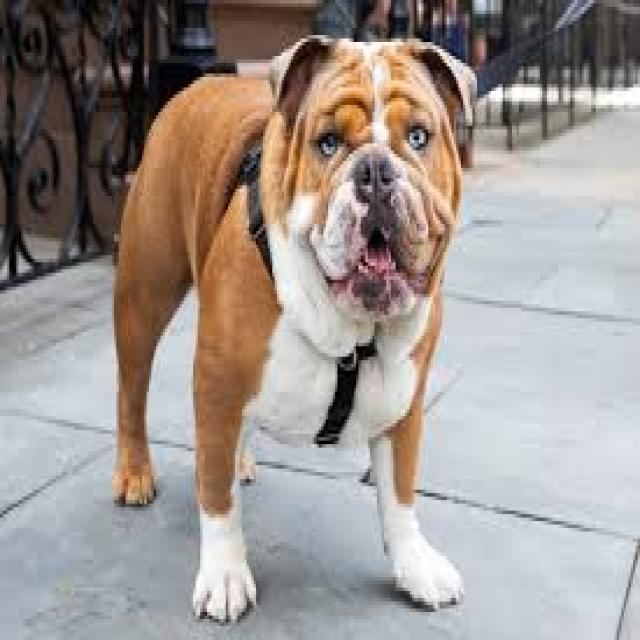dogs: (109, 33, 480, 625)
